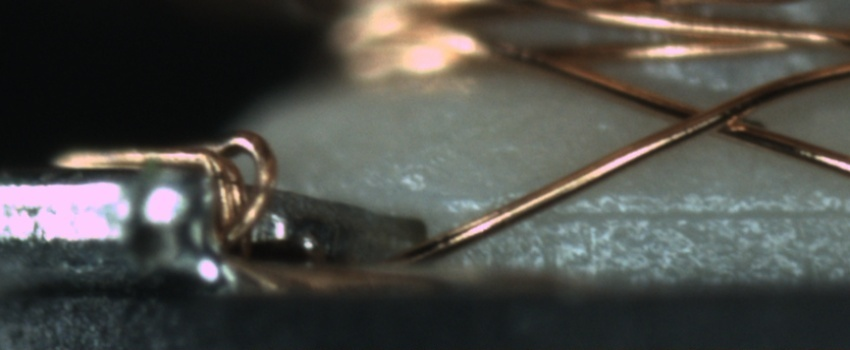CL: (651, 92, 774, 142)
DL: (535, 182, 849, 243)
TE: (42, 113, 286, 272)
